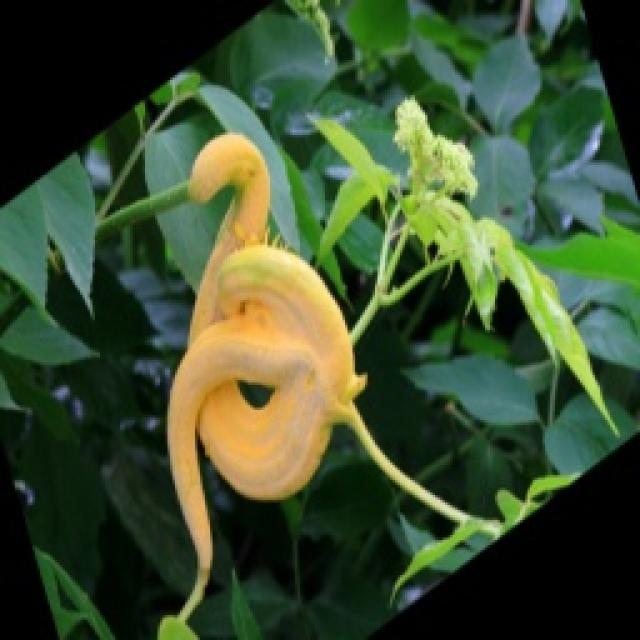Elderberry_rust: (139, 58, 367, 621)
